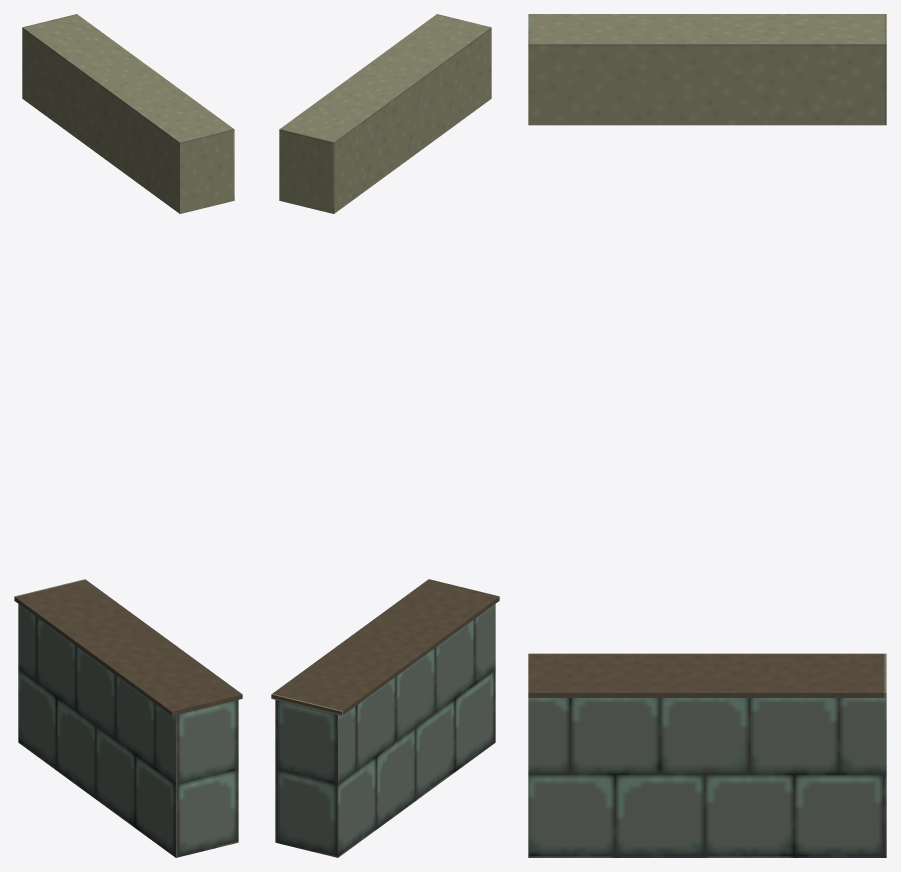
The model's file is obj_wallOpen_1x2m_v3.fbx.
The picture shows the model from 3 angles, left to right: view 1: azimuth 30°, elevation 25°; view 2: azimuth 150°, elevation 25°; view 3: azimuth 270°, elevation 25°; orthographic projection. The views are drawn at different scales.
Parts seen in each view (by area): view 1: obj_wallOpen_1x2m_v3; view 2: obj_wallOpen_1x2m_v3; view 3: obj_wallOpen_1x2m_v3.
Part boxes in pixels (left/top/right/bottom): obj_wallOpen_1x2m_v3: left=14, top=14, right=242, bottom=857; obj_wallOpen_1x2m_v3: left=271, top=14, right=499, bottom=857; obj_wallOpen_1x2m_v3: left=528, top=14, right=886, bottom=857.
Bounding box in the file's own units: 25.98 × 250 × 100.
